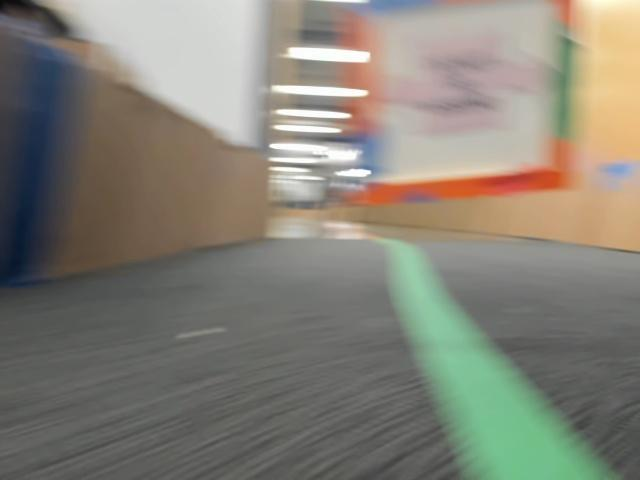Do Not Go Around: (393, 20, 548, 139)
